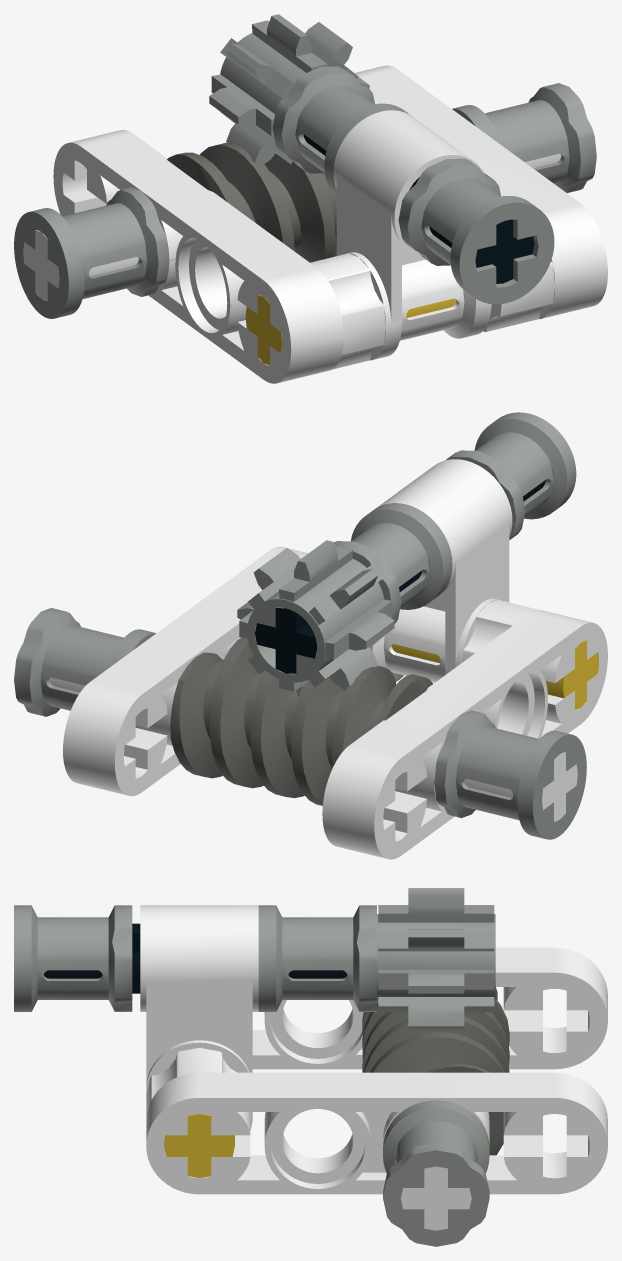
File: wasteoftime1.glb
3 renders of one model, top to bottom at view 1: azimuth 30°, elevation 25°; view 2: azimuth 150°, elevation 25°; view 3: azimuth 270°, elevation 25°, orthographic. The views are drawn at different scales.
Visible parts, largest first — view 1: waste of time_05_47_43_Copy; view 2: waste of time_05_47_43_Copy; view 3: waste of time_05_47_43_Copy.
Boxes of the visible parts, x1,y1,x2,y2 form: waste of time_05_47_43_Copy: (14, 14, 607, 383); waste of time_05_47_43_Copy: (14, 412, 607, 859); waste of time_05_47_43_Copy: (14, 888, 607, 1246).
Bounding box in the file's own units: 100 × 44.92 × 100.
